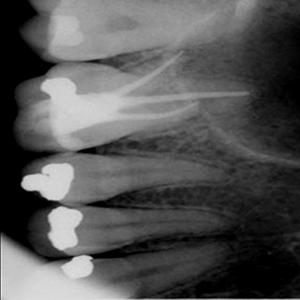tooth: (13, 63, 252, 150), (14, 0, 262, 63), (16, 150, 232, 204), (22, 204, 231, 253)
